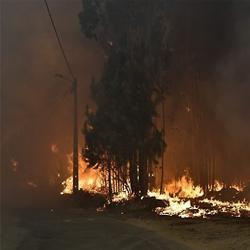fire: (166, 179, 201, 213), (77, 167, 105, 190)
